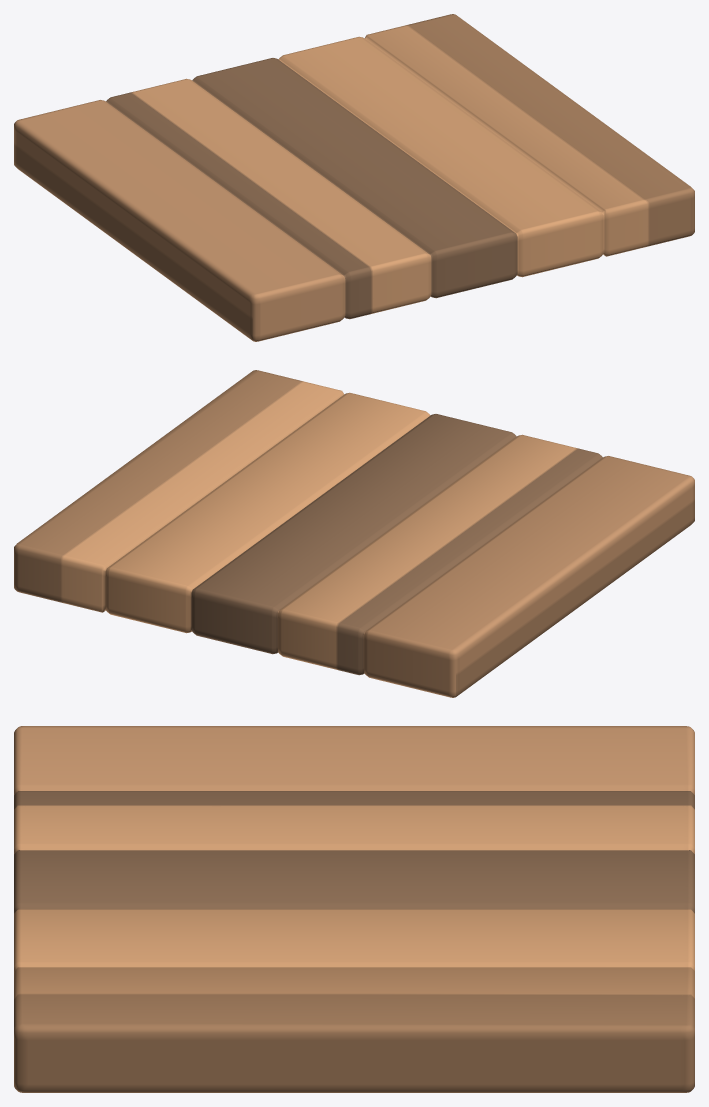
The model's file is HoopsBoxFloor2.fbx.
The picture shows the model from 3 angles, top to bottom: view 1: azimuth 30°, elevation 25°; view 2: azimuth 150°, elevation 25°; view 3: azimuth 270°, elevation 25°; orthographic projection. The views are drawn at different scales.
Visible parts, largest first — view 1: ENV_S02_MovableBox_MO_1; view 2: ENV_S02_MovableBox_MO_1; view 3: ENV_S02_MovableBox_MO_1.
Boxes of the visible parts, x1,y1,x2,y2 form: ENV_S02_MovableBox_MO_1: [14, 14, 694, 341]; ENV_S02_MovableBox_MO_1: [14, 370, 694, 697]; ENV_S02_MovableBox_MO_1: [14, 726, 694, 1092].
Size of the model in its own units: 12.3 by 1.24 by 11.63.
